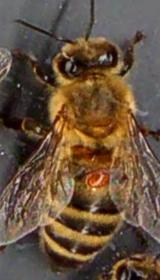varroa_mite: (86, 168, 112, 194)
